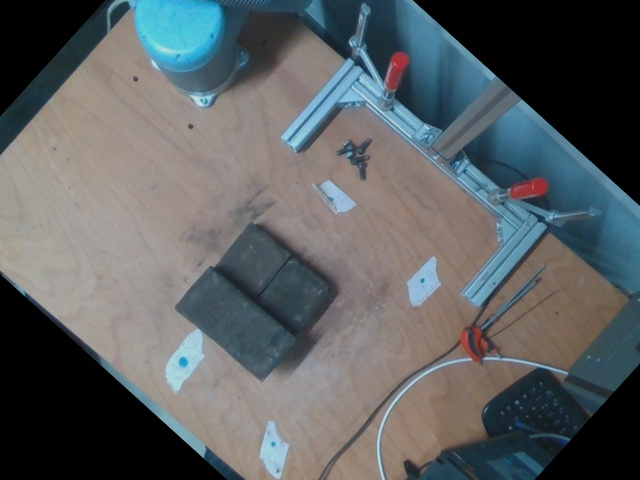brick: (176, 267, 296, 378)
